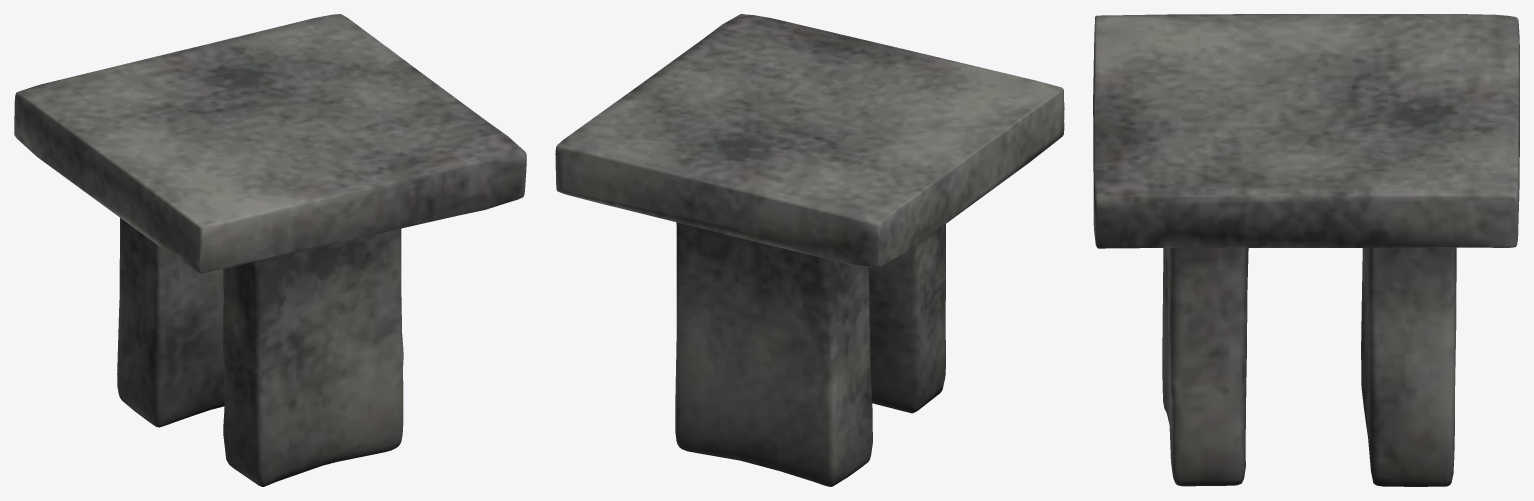
The model's file is chipped-granite-table-v001.glb.
3 views of the same model, side by side, from view 1: azimuth 30°, elevation 25°; view 2: azimuth 150°, elevation 25°; view 3: azimuth 270°, elevation 25° (orthographic). The views are drawn at different scales.
Parts seen in each view (by area): view 1: chipped-granite-table; view 2: chipped-granite-table; view 3: chipped-granite-table.
Boxes of the visible parts, x1=… form: chipped-granite-table: x1=14, y1=14, x2=526, y2=486; chipped-granite-table: x1=555, y1=14, x2=1064, y2=486; chipped-granite-table: x1=1093, y1=14, x2=1519, y2=486.
Size of the model in its own units: 0.807 by 0.7297 by 0.8047.
1 material, 1 textured.
